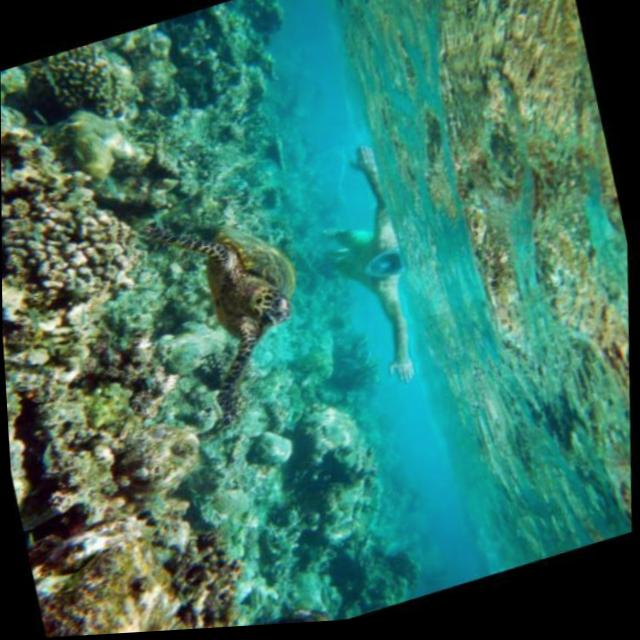Dead Coral: (0, 39, 275, 640)
